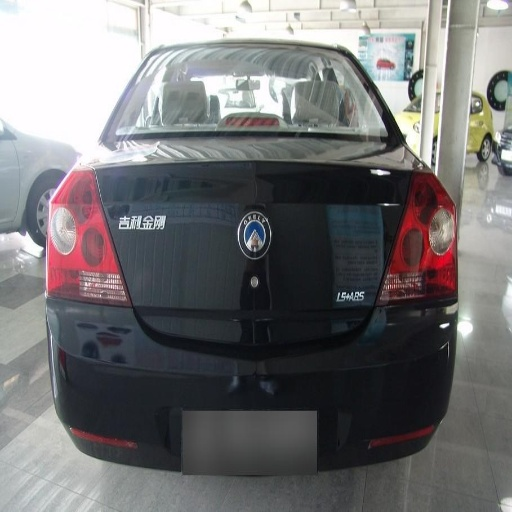back_bumper: (46, 302, 455, 463)
tailgate: (247, 138, 414, 340), (93, 132, 201, 334)
